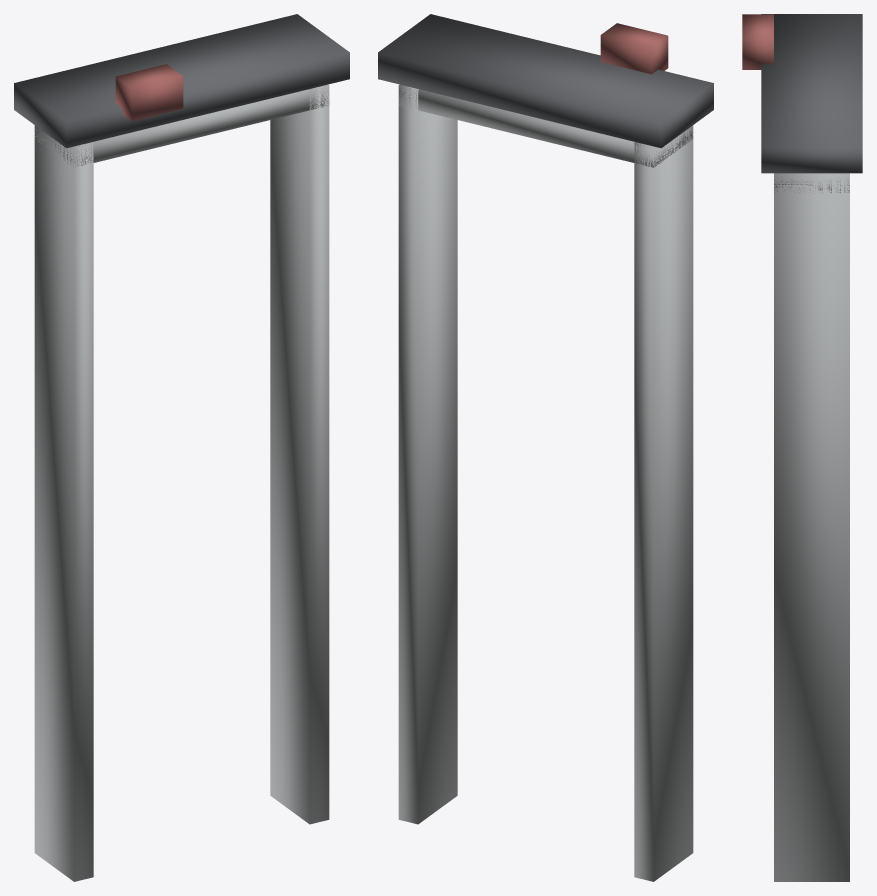
File: doorway_fire_rated_w76_h240_d24.glb
The picture shows the model from 3 angles, left to right: view 1: azimuth 30°, elevation 25°; view 2: azimuth 150°, elevation 25°; view 3: azimuth 270°, elevation 25°; orthographic projection. The views are drawn at different scales.
Visible parts, largest first — view 1: world; view 2: world; view 3: world.
Boxes of the visible parts, left/top/right/bottom form: world: left=14, top=14, right=349, bottom=881; world: left=378, top=14, right=713, bottom=881; world: left=742, top=14, right=862, bottom=881.
Size of the model in its own units: 0.9968 by 2.67 by 0.38.
